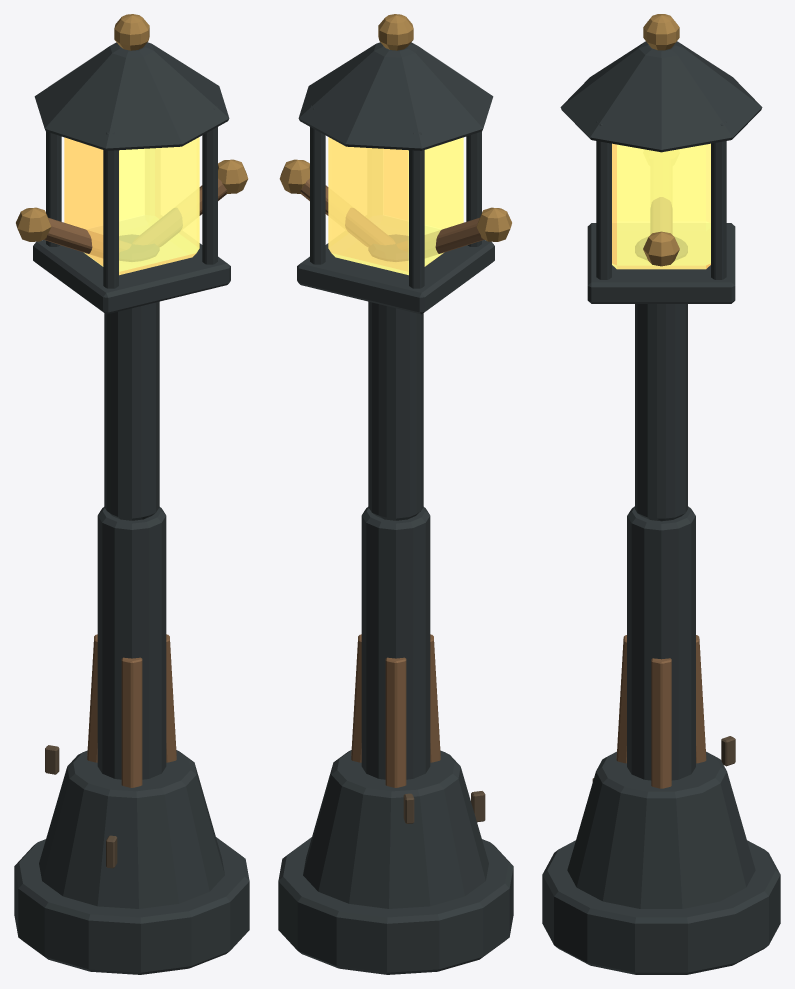
File: runtime.glb
3 renders of one model, left to right at view 1: azimuth 30°, elevation 25°; view 2: azimuth 150°, elevation 25°; view 3: azimuth 270°, elevation 25°, orthographic.
Parts seen in each view (by area): view 1: eiffel-historic-lamp-v05_nocol; view 2: eiffel-historic-lamp-v05_nocol; view 3: eiffel-historic-lamp-v05_nocol.
Part boxes in pixels (x1,y1,x2,y2): eiffel-historic-lamp-v05_nocol: (14, 14, 249, 974); eiffel-historic-lamp-v05_nocol: (278, 14, 513, 974); eiffel-historic-lamp-v05_nocol: (542, 14, 780, 974).
Size of the model in its own units: 1 by 3.8 by 0.9.
